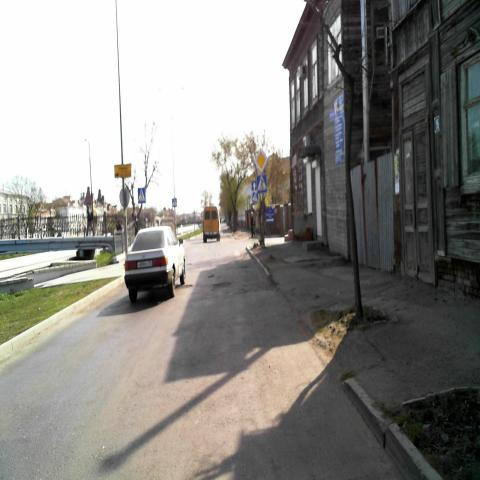2_1: (255, 148, 267, 172)
5_19_1: (257, 176, 267, 192), (138, 188, 146, 203), (252, 192, 258, 204), (172, 199, 176, 207)
5_5: (252, 180, 256, 191)
